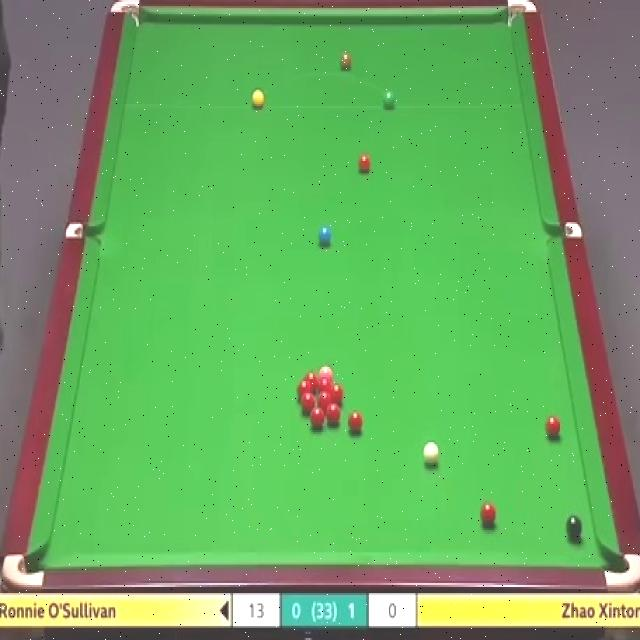black-ball: (566, 518, 584, 544)
blue-ball: (317, 225, 332, 248)
brown-ball: (339, 53, 352, 73)
green-ball: (382, 91, 397, 112)
pink-ball: (319, 366, 333, 377)
red-ball: (545, 417, 563, 443), (324, 402, 340, 427), (481, 502, 497, 526), (297, 381, 314, 403), (347, 412, 362, 434), (310, 403, 324, 424), (329, 385, 344, 404), (358, 155, 371, 174), (301, 396, 315, 413), (318, 390, 332, 405), (318, 376, 330, 393), (305, 373, 318, 387)
white-ball: (422, 444, 438, 466)
yellow-ball: (252, 90, 264, 110)
